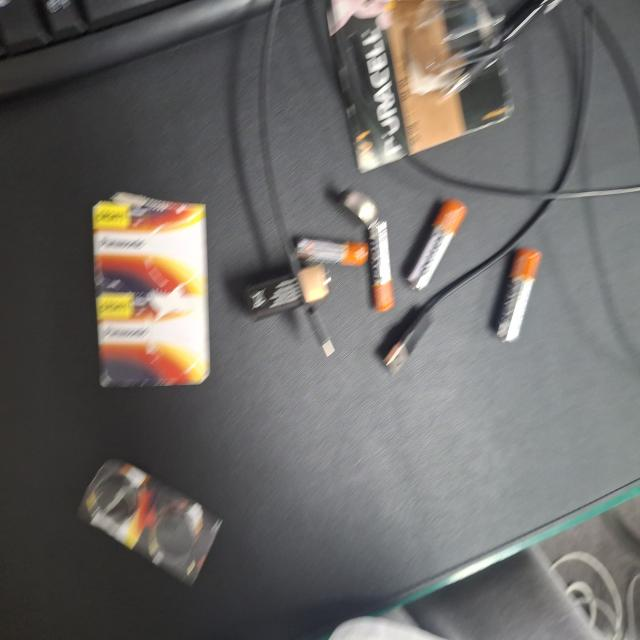9V: (236, 323, 284, 440)
AA: (260, 538, 333, 623)
AAA: (245, 490, 317, 527), (278, 396, 302, 492)
COIN: (307, 450, 338, 510)
